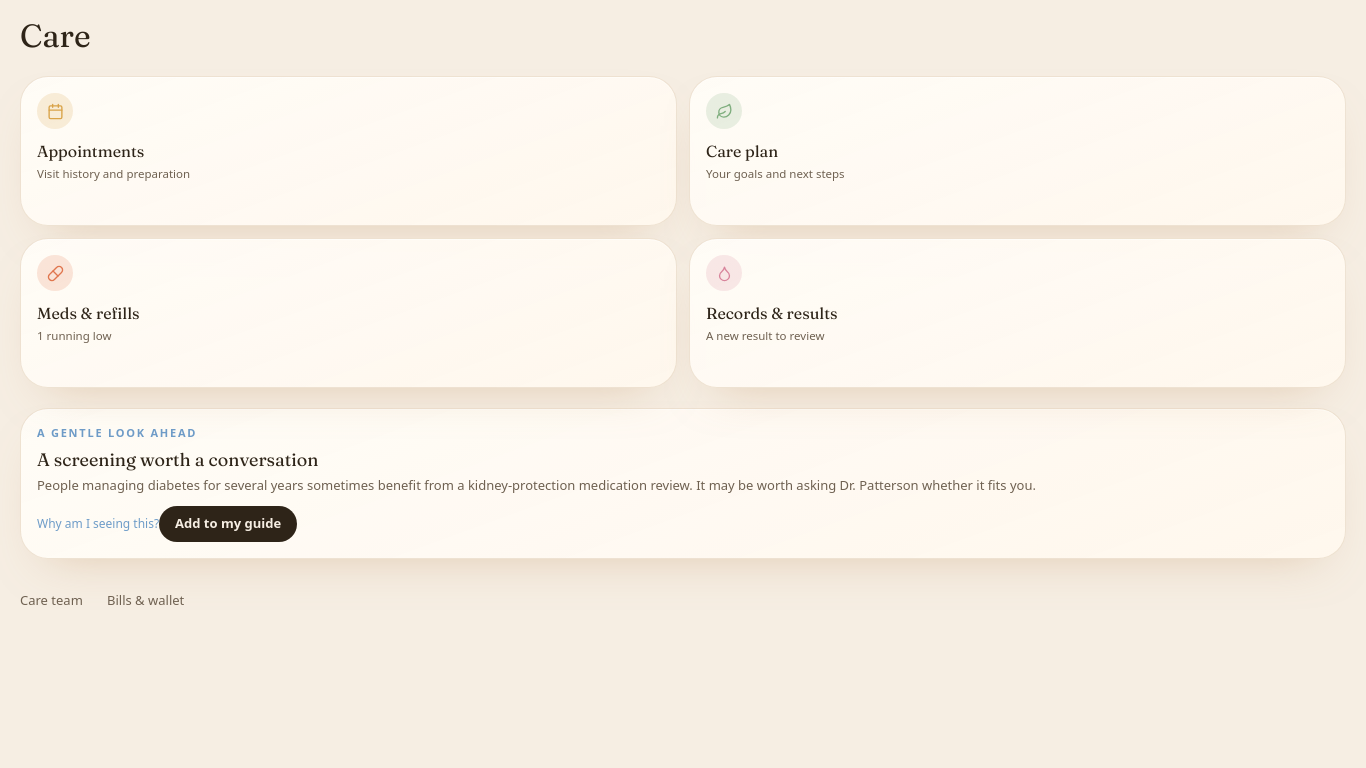
Test case: focused navigation › keeps four Care workspaces and retains contextual billing and visit reports
This screenshot has width=1366, height=768.
Expected: the button "Appointments Visit history and preparation" is shown, top-left (20, 76), bottom-right (677, 226)
Expected: the button "Care plan Your goals and next steps" is shown, top-left (689, 76), bottom-right (1346, 226)
What coordinates should you click on to do the following:
click the button "Bills & wallet"
I would click on:
 (145, 601)
Its box is top-left (107, 579), bottom-right (184, 623).
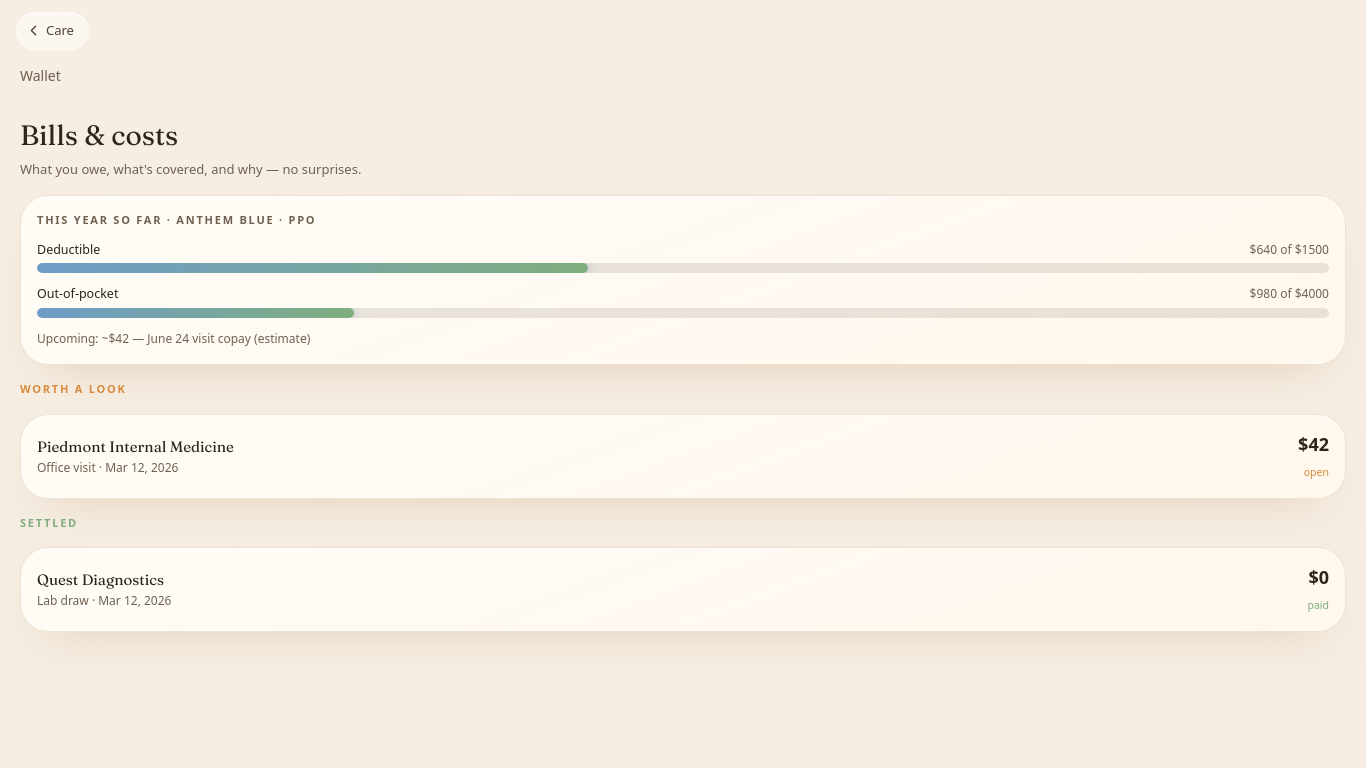
Expected: the button "Wallet" is shown, top-left (20, 54), bottom-right (61, 98)
What coordinates should you click on to do the following:
click the button "Care"
I would click on:
 (52, 31)
Its box is top-left (16, 12), bottom-right (89, 50).
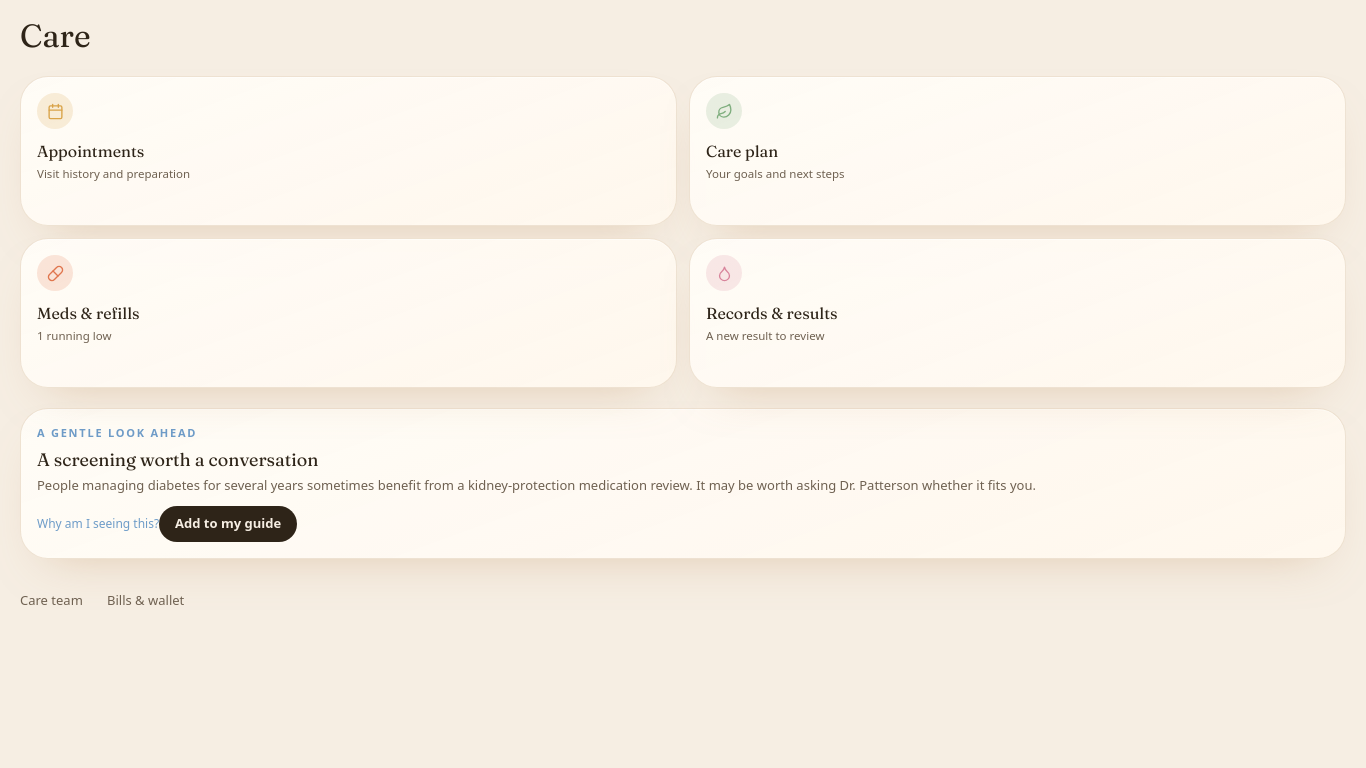
What coordinates should you click on to do the following:
click the button "Appointments Visit history and preparation"
I would click on:
 (348, 151)
Its box is top-left (20, 76), bottom-right (677, 226).
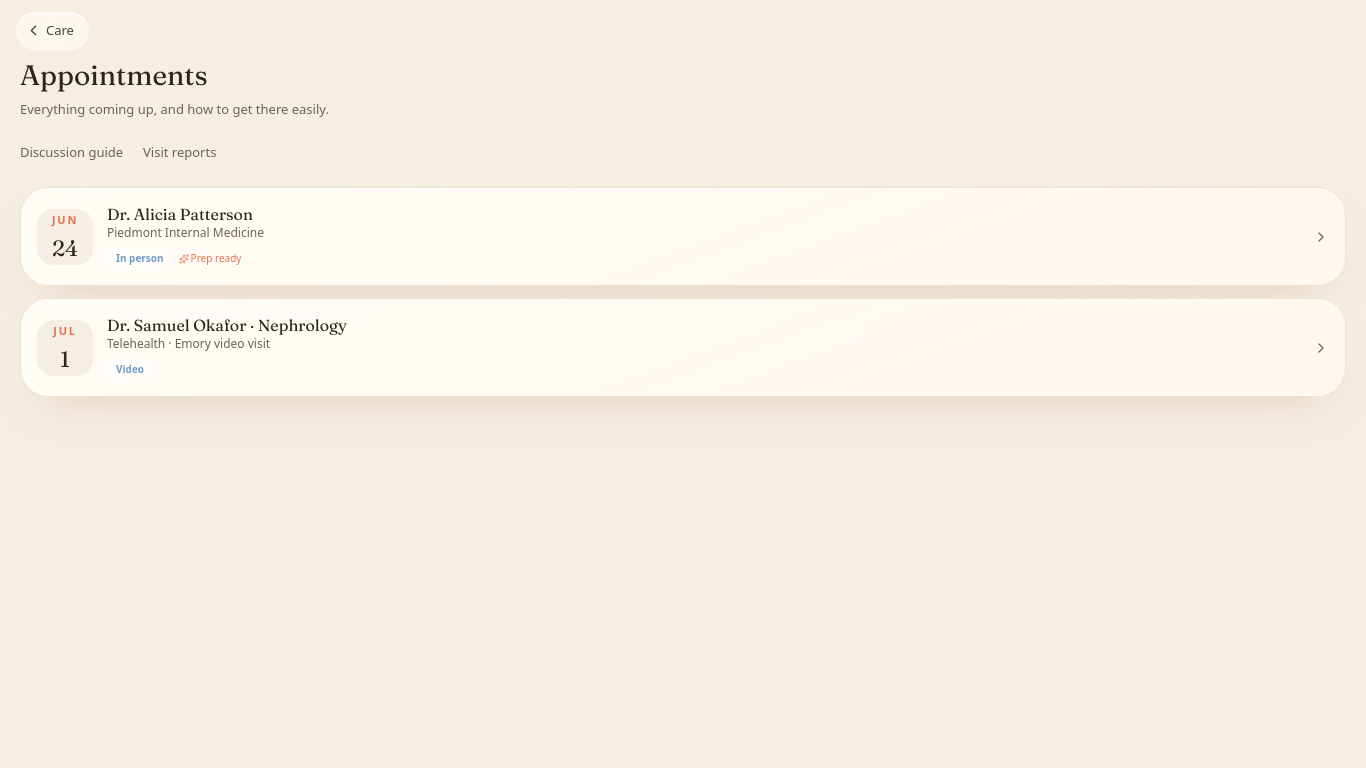
Expected: the button "Visit reports" is shown, top-left (143, 131), bottom-right (217, 175)
Expected: the button "Discussion guide" is shown, top-left (20, 131), bottom-right (123, 175)
